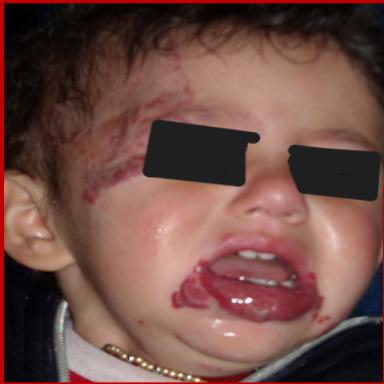Hemangiome: (173, 264, 316, 321)
